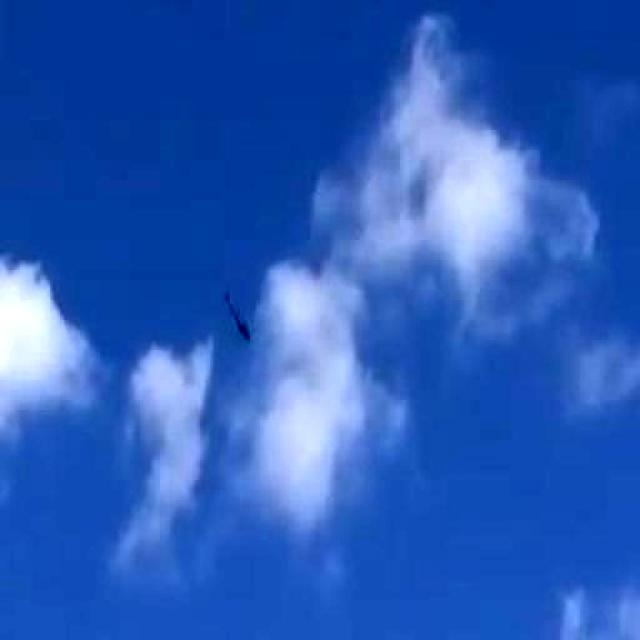drone: (198, 275, 276, 369)
